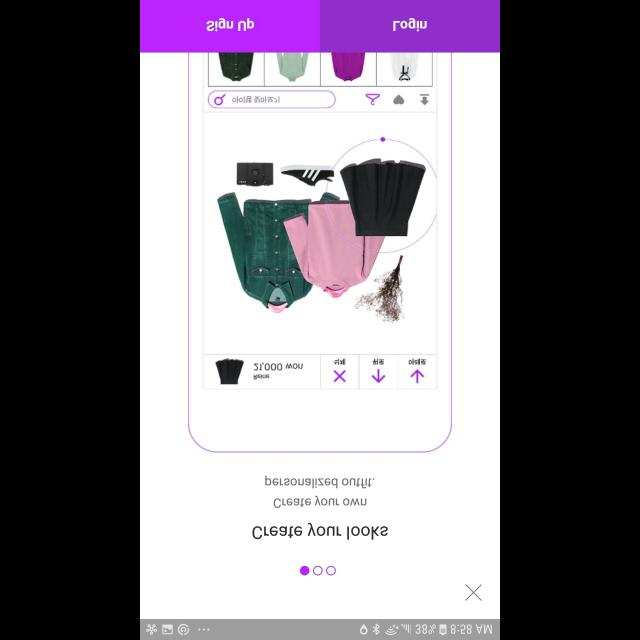icon: (466, 584, 482, 600)
image: (188, 52, 452, 452)
pageindicator: (300, 565, 336, 575)
text: (265, 476, 375, 508), (252, 522, 388, 540)
textbutton: (140, 0, 320, 52), (320, 0, 500, 52)
uppertaskbar: (140, 618, 500, 640)
